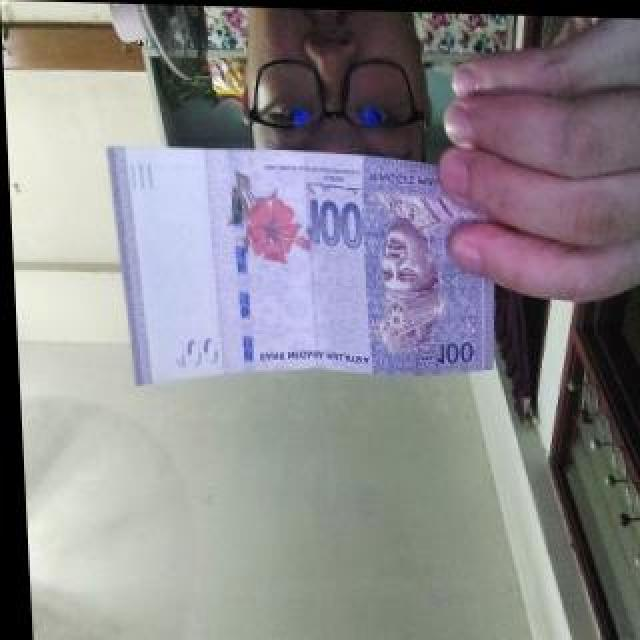100 Ringgit: (92, 142, 526, 400)
